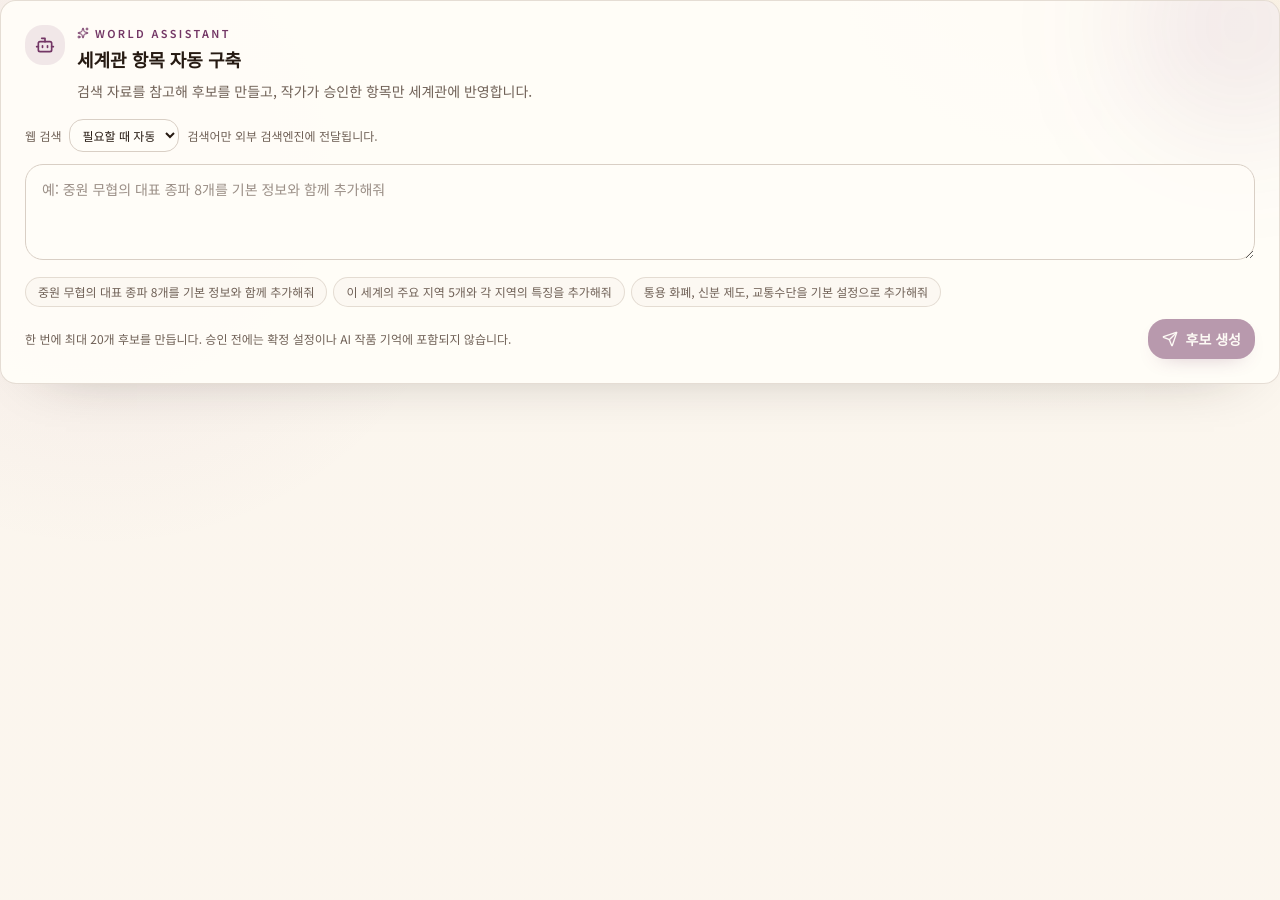
Test: WorldBuilderAssistant review flow › does not add generated entries until explicit approval, then returns saved tags
The image size is (1280, 900).
Select "항상 검색" in the dropdown labelled "웹 검색" at (124, 136), box [70, 119, 180, 152]
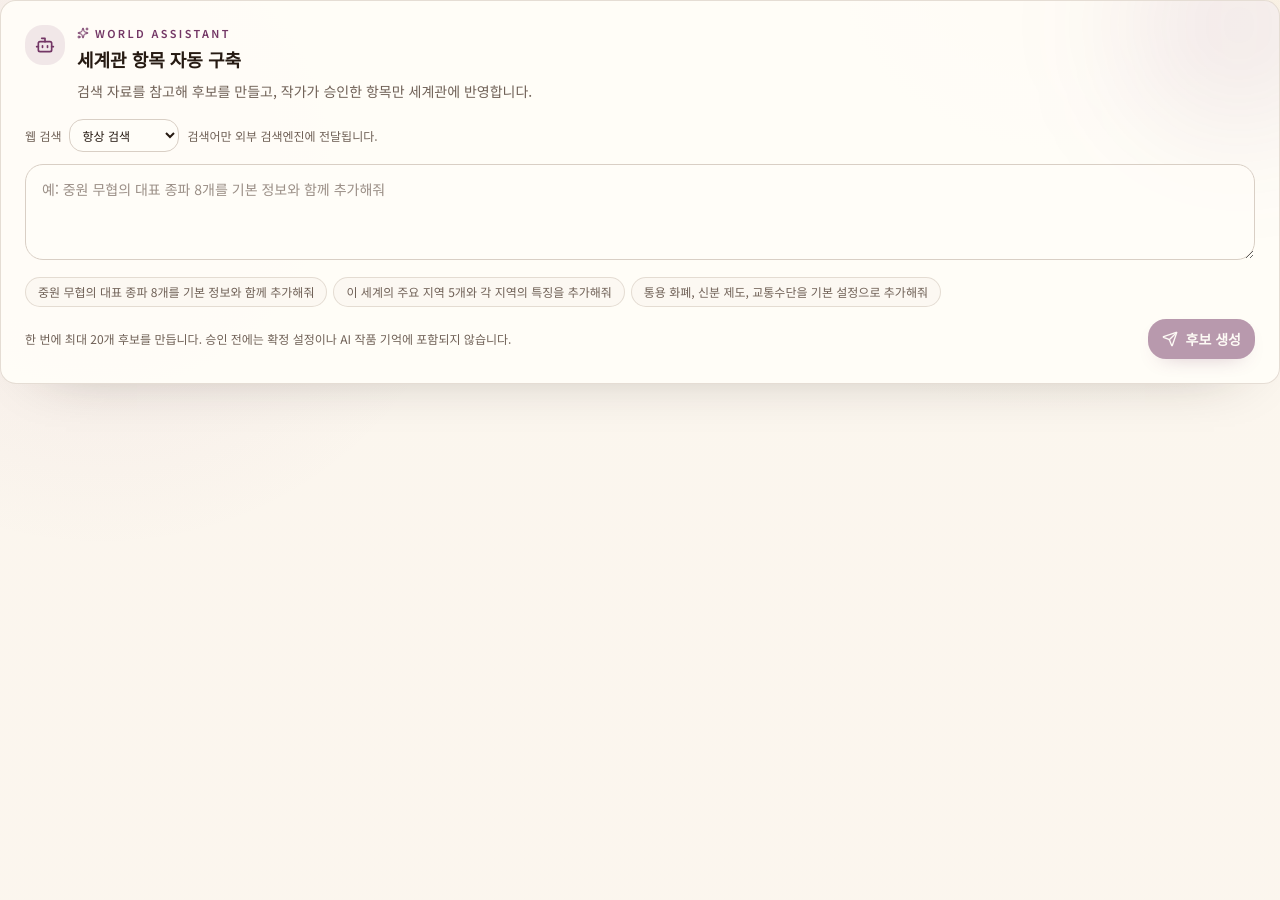
Type "영약 하나를 찾아 추가해줘" into the text box named "세계관 어시스턴트 요청" at (640, 212), box [25, 164, 1255, 260]
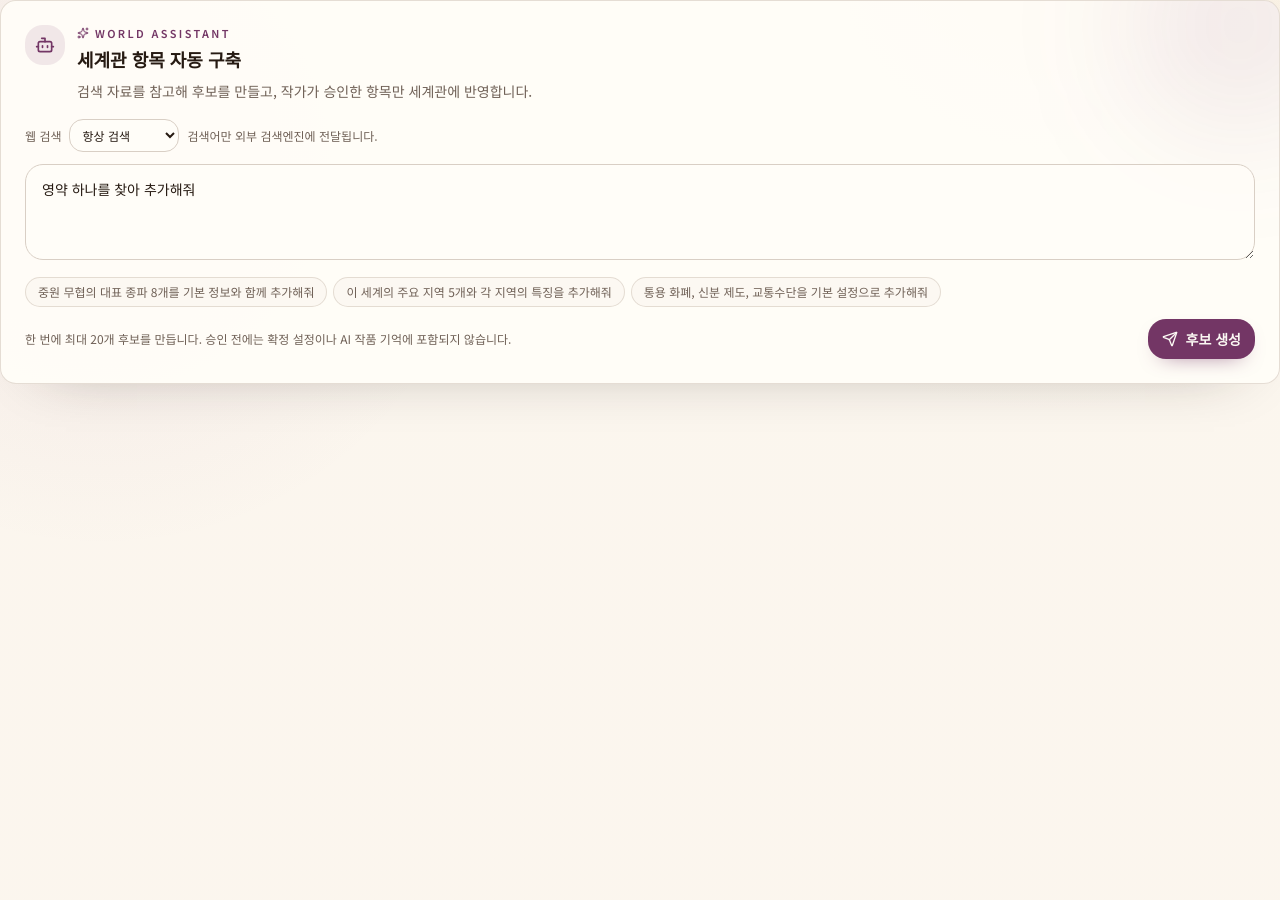
Click the button "후보 생성" at (1201, 339), box [1148, 319, 1255, 359]
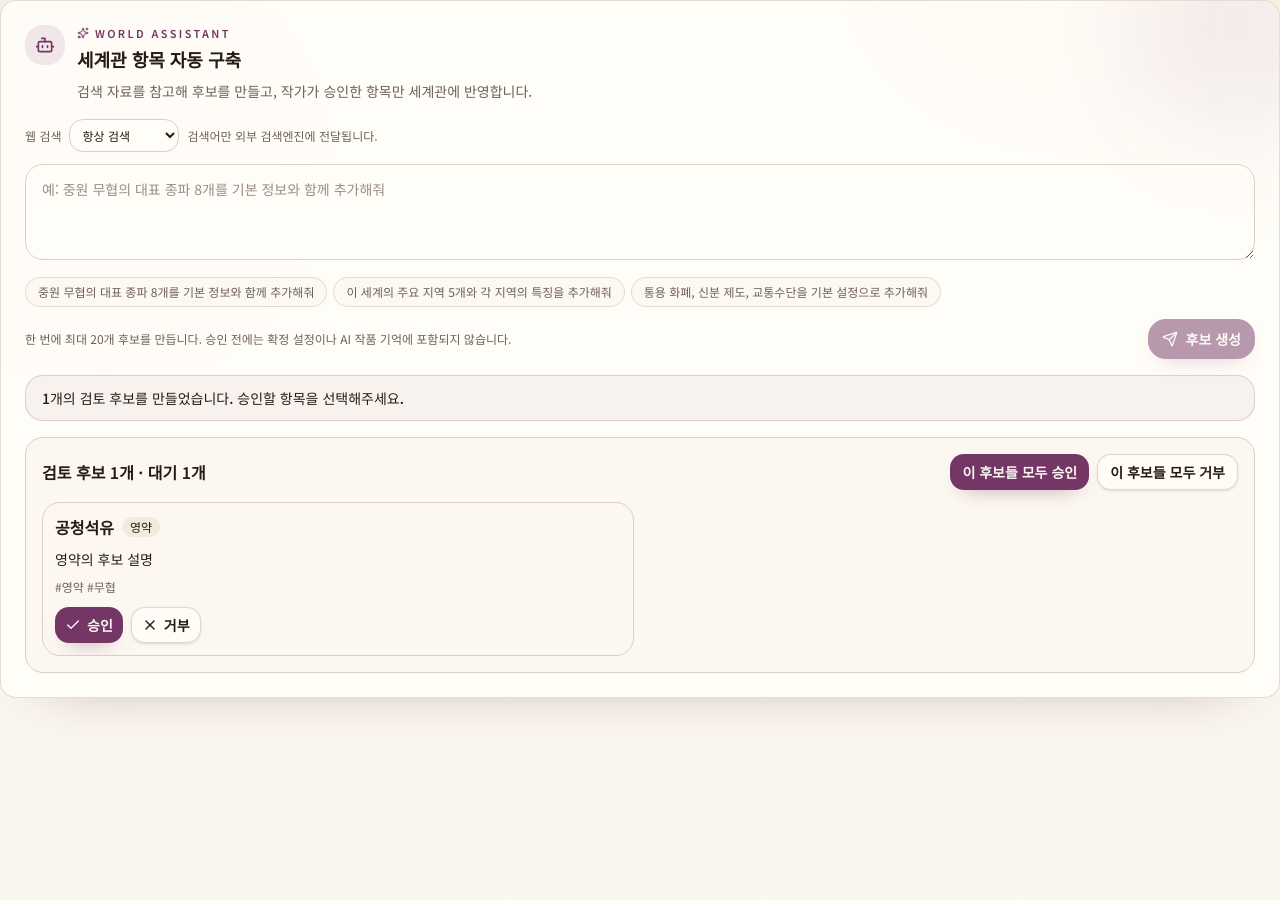
Click the button "승인" at (89, 625), box [55, 607, 123, 643]
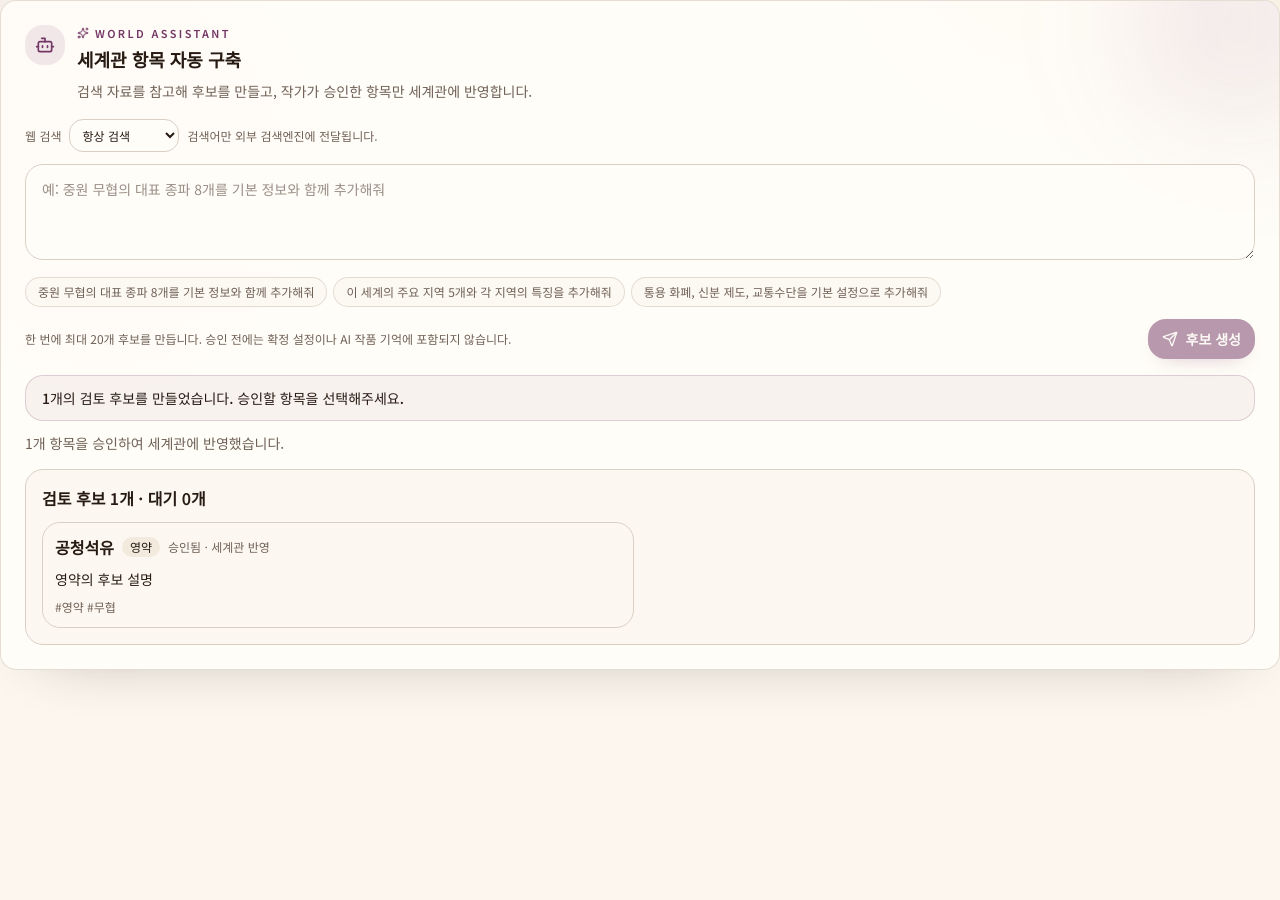
Expected: the text "승인됨 · 세계관 반영" is shown, [168, 539, 270, 555]
